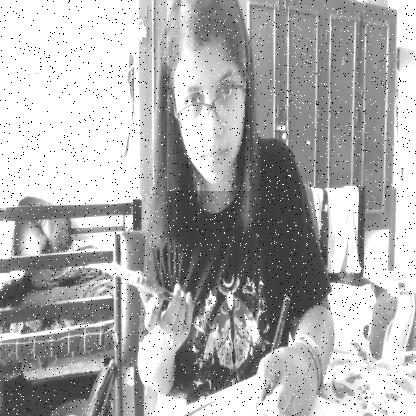Normal: (167, 0, 250, 191)
